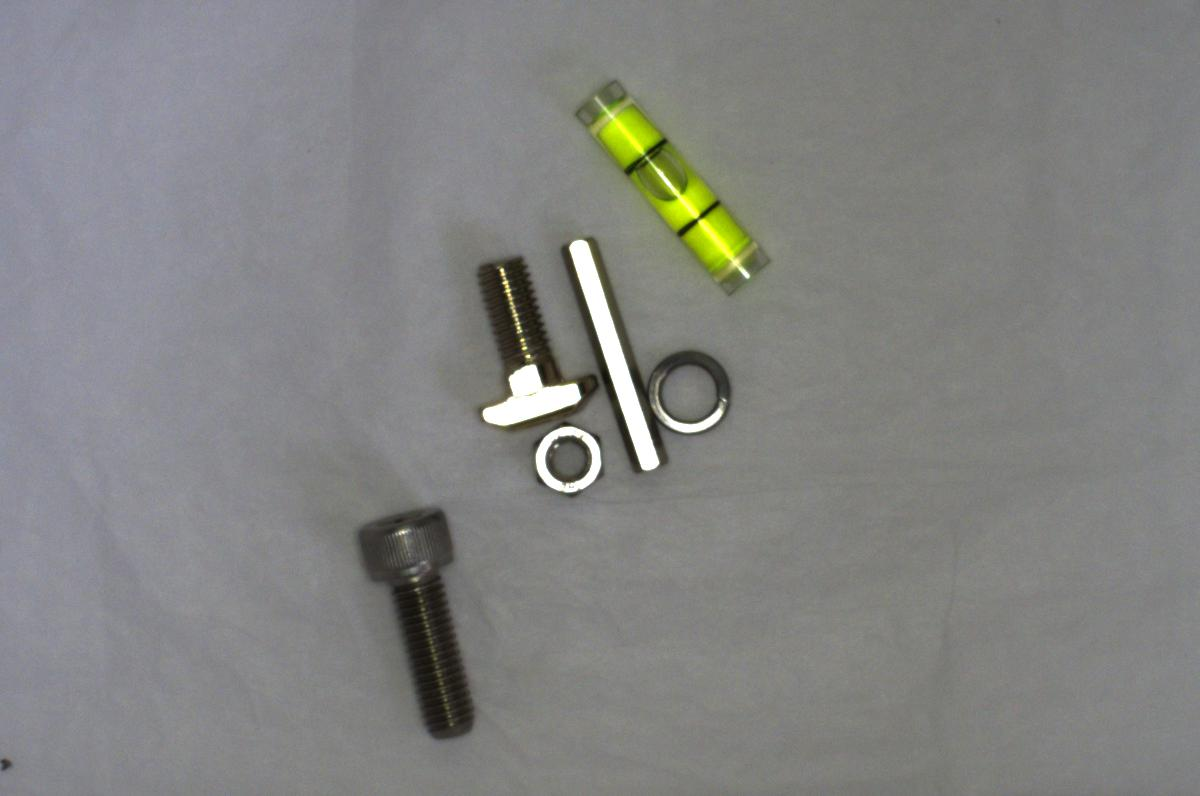Double hexagonal column: (558, 220, 666, 474)
Hexagon nut: (526, 422, 608, 506)
Horizontal bubble: (581, 73, 779, 299)
Spring washer: (642, 343, 737, 440)
T-shaped screw: (458, 248, 600, 428)
